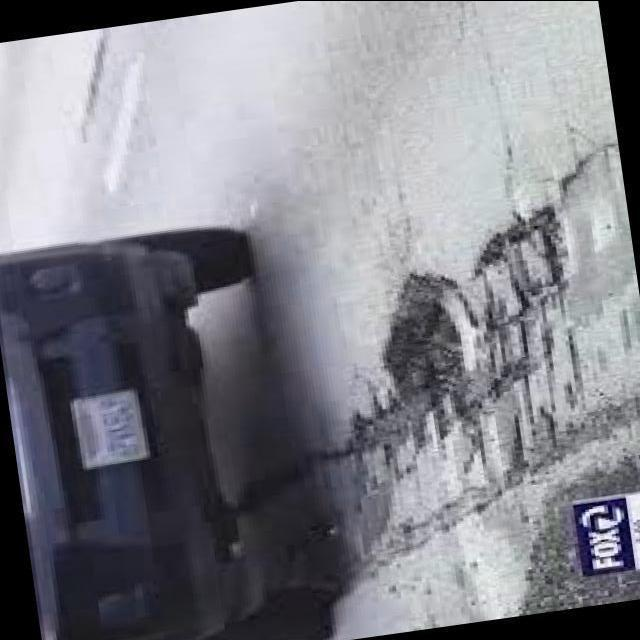pothole: (222, 145, 640, 584)
